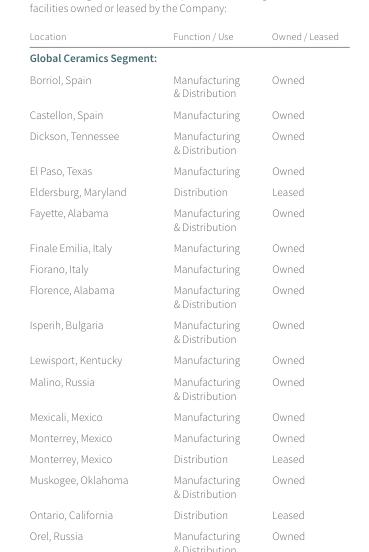table: (28, 29, 337, 521)
table column: (28, 29, 150, 521), (150, 29, 255, 521), (255, 29, 337, 521)
table column header: (28, 29, 337, 46)
table projected row header: (28, 46, 337, 68)
table row: (28, 68, 337, 103), (28, 124, 337, 159), (28, 201, 337, 236), (28, 279, 337, 314), (28, 314, 337, 349), (28, 370, 337, 405), (28, 468, 337, 503), (28, 46, 337, 68), (28, 236, 337, 258), (28, 103, 337, 124), (28, 159, 337, 180), (28, 180, 337, 201), (28, 258, 337, 279), (28, 349, 337, 370), (28, 405, 337, 426), (28, 426, 337, 447), (28, 447, 337, 468), (28, 503, 337, 521), (28, 29, 337, 46)
